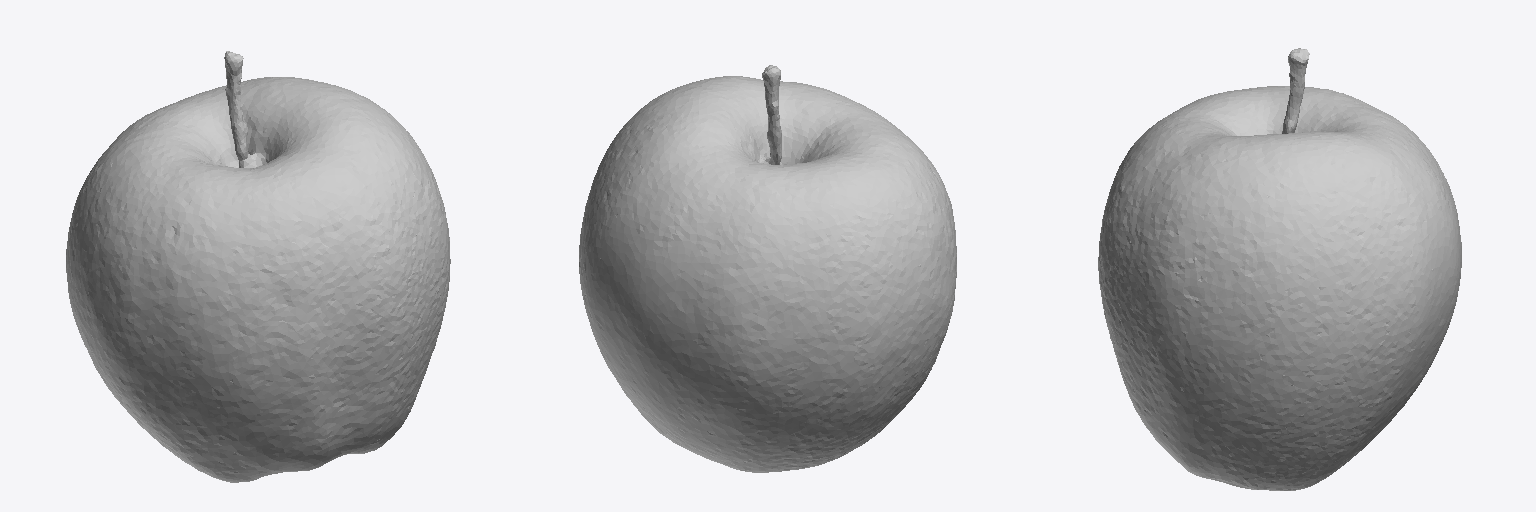
The model's file is app.obj.
The picture shows the model from 3 angles: view 1: azimuth 30°, elevation 25°; view 2: azimuth 150°, elevation 25°; view 3: azimuth 270°, elevation 25°; orthographic projection.
Visible parts, largest first — view 1: Mesh_0; view 2: Mesh_0; view 3: Mesh_0.
Part boxes in pixels (x1,y1,x2,y2): Mesh_0: (66,51,450,482); Mesh_0: (579,65,956,472); Mesh_0: (1098,48,1461,490).
Bounding box in the file's own units: 0.0663 × 0.0756 × 0.0624.